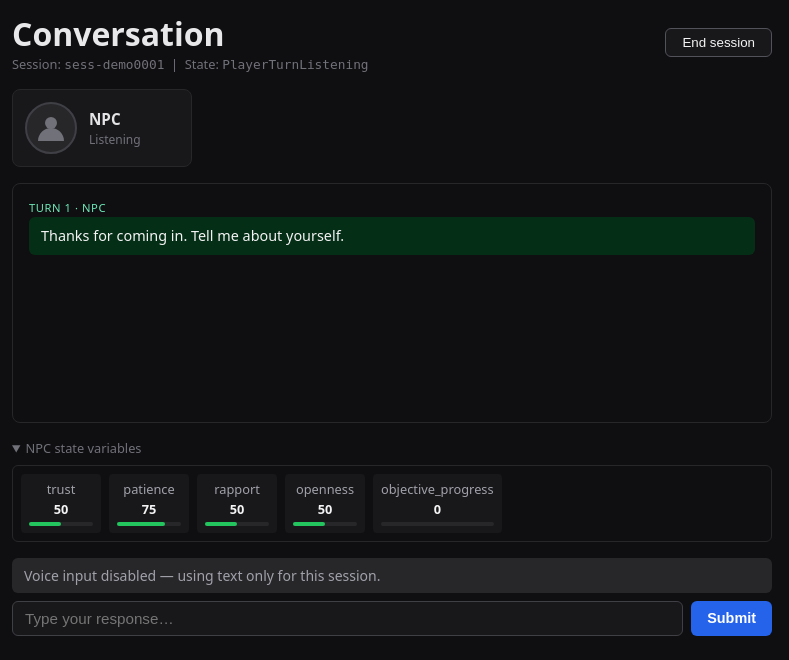
Test: Conversation screen › NPC panel › updates npc emotion when turn has non-neutral emotion
The width and height of the screenshot is (789, 660).
Type "Test message" into the field labelled "Type your response…".
click(348, 618); type("Test message")  # box [12, 601, 683, 636]
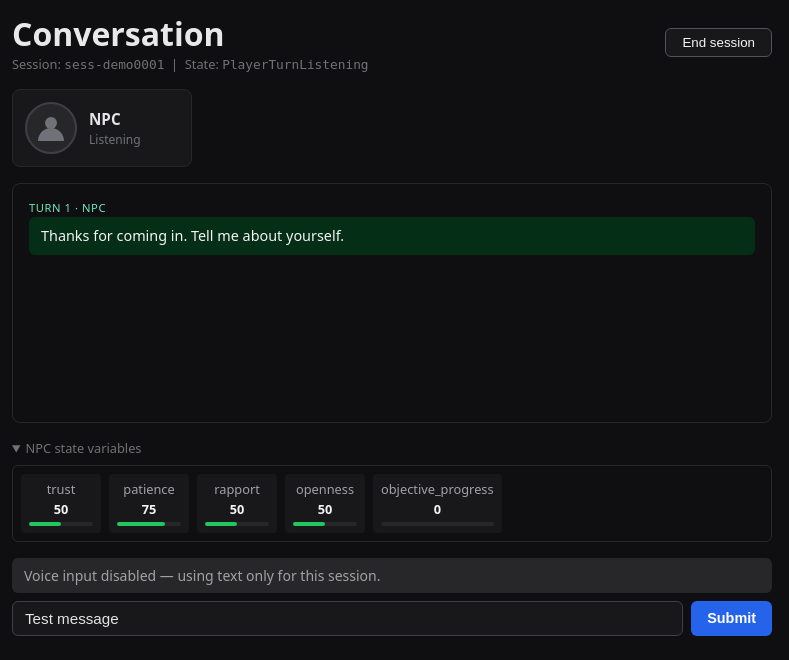
Click the button "Submit".
click(732, 618)  # box [691, 601, 772, 636]
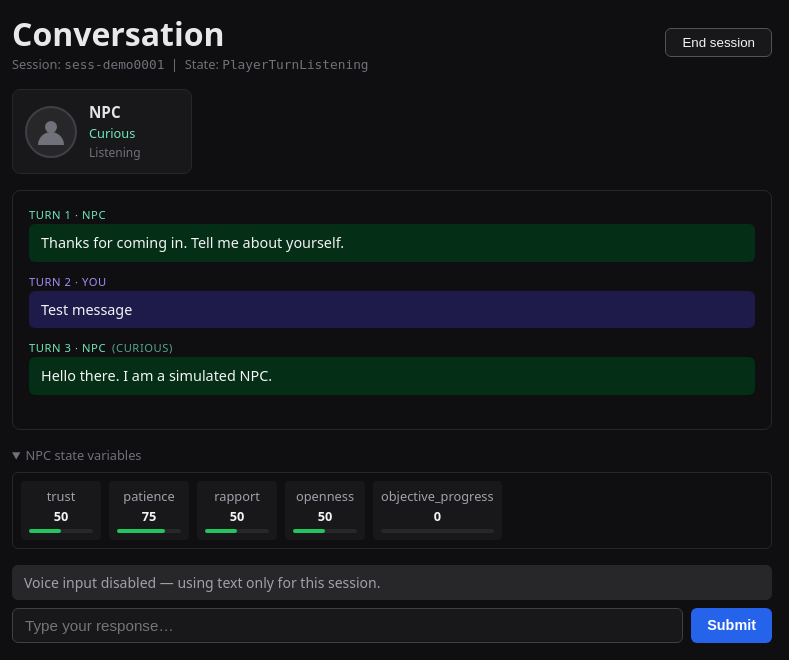
Check: the text with test id "npc-emotion" reads "curious", box [89, 124, 135, 142]
